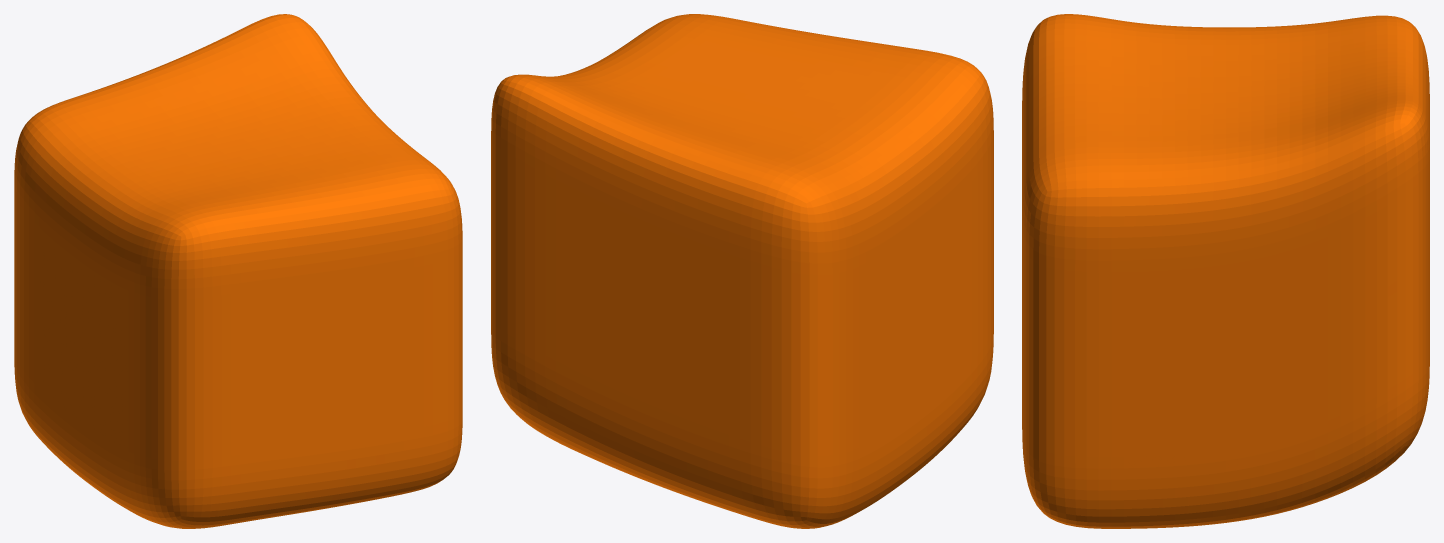
3 renders of one model, left to right at view 1: azimuth 30°, elevation 25°; view 2: azimuth 150°, elevation 25°; view 3: azimuth 270°, elevation 25°, orthographic. The views are drawn at different scales.
Visible parts, largest first — view 1: smooth_1_base.032; view 2: smooth_1_base.032; view 3: smooth_1_base.032.
Boxes of the visible parts, left/top/right/bottom form: smooth_1_base.032: left=14, top=14, right=462, bottom=528; smooth_1_base.032: left=491, top=14, right=993, bottom=528; smooth_1_base.032: left=1022, top=14, right=1429, bottom=528.
Bounding box in the file's own units: 60 × 68.2 × 60.
